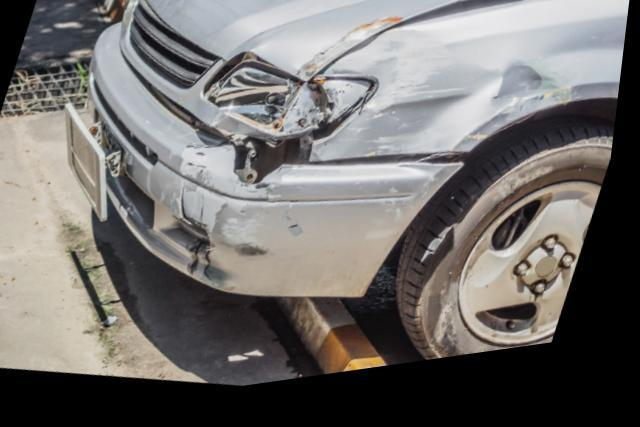crack: (186, 192, 220, 290)
dent: (326, 42, 562, 167)
dislocated part: (87, 27, 469, 306)
lamp broken: (216, 73, 382, 139)
scratch: (191, 172, 282, 269), (297, 25, 404, 90)
